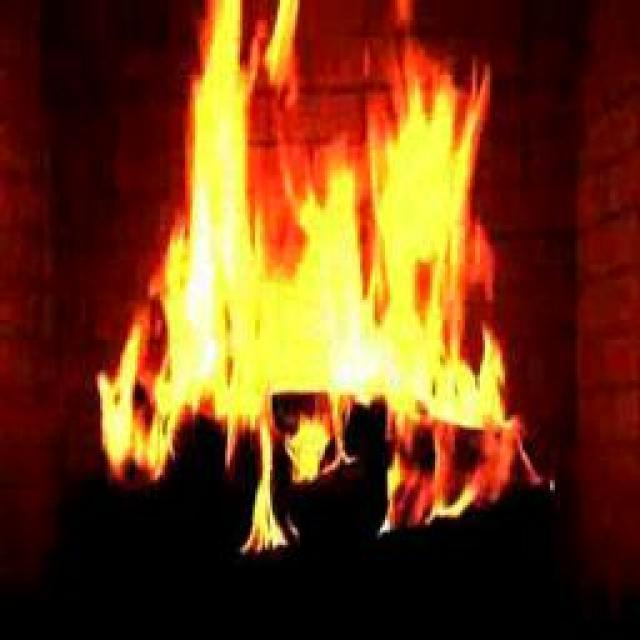Fire: (106, 84, 498, 480)
